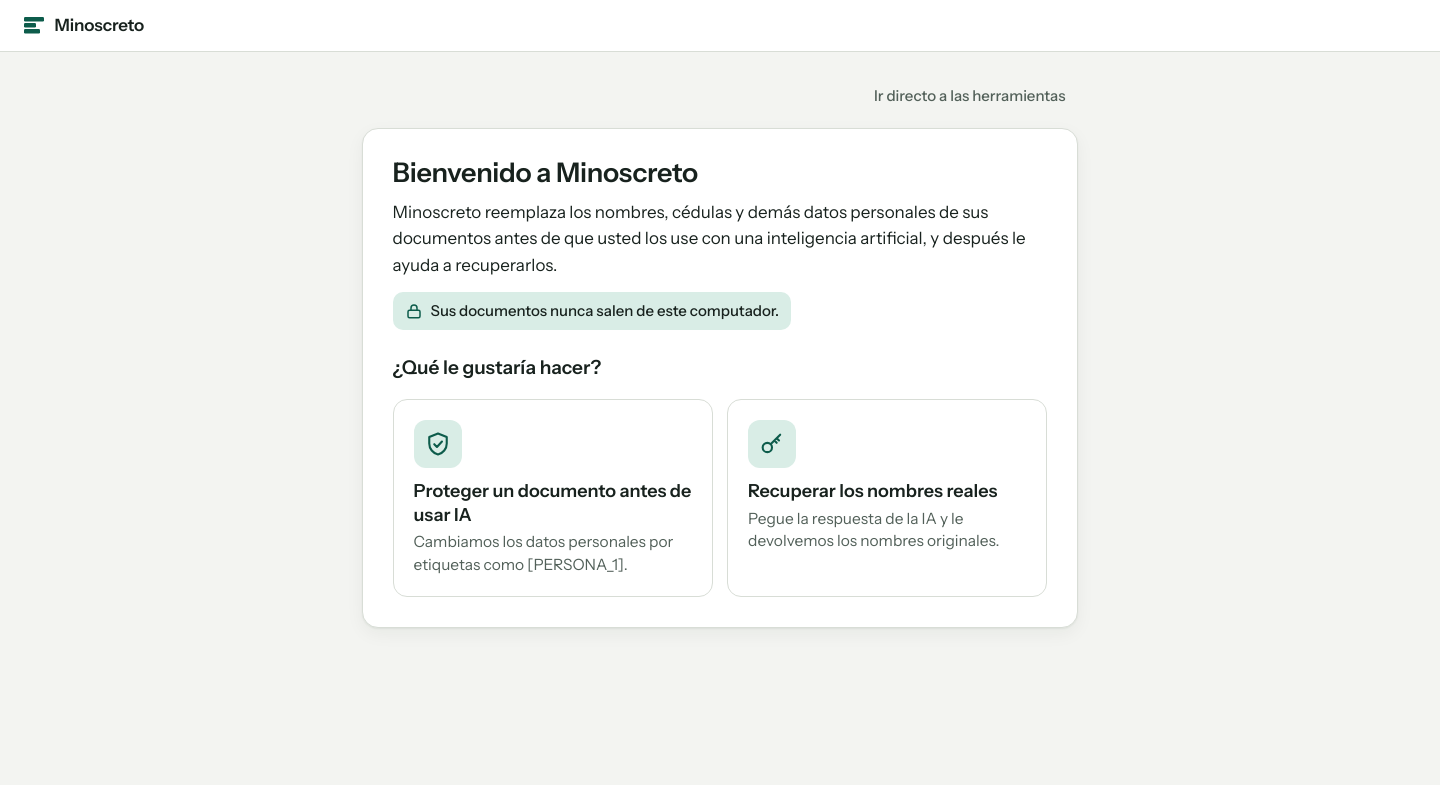
it: descarga y copia en la app › iPhone/iPad: el diccionario espera un toque y solo entonces queda marcado
Click the button "Proteger un documento".
click(553, 498)  # box [393,399,713,597]
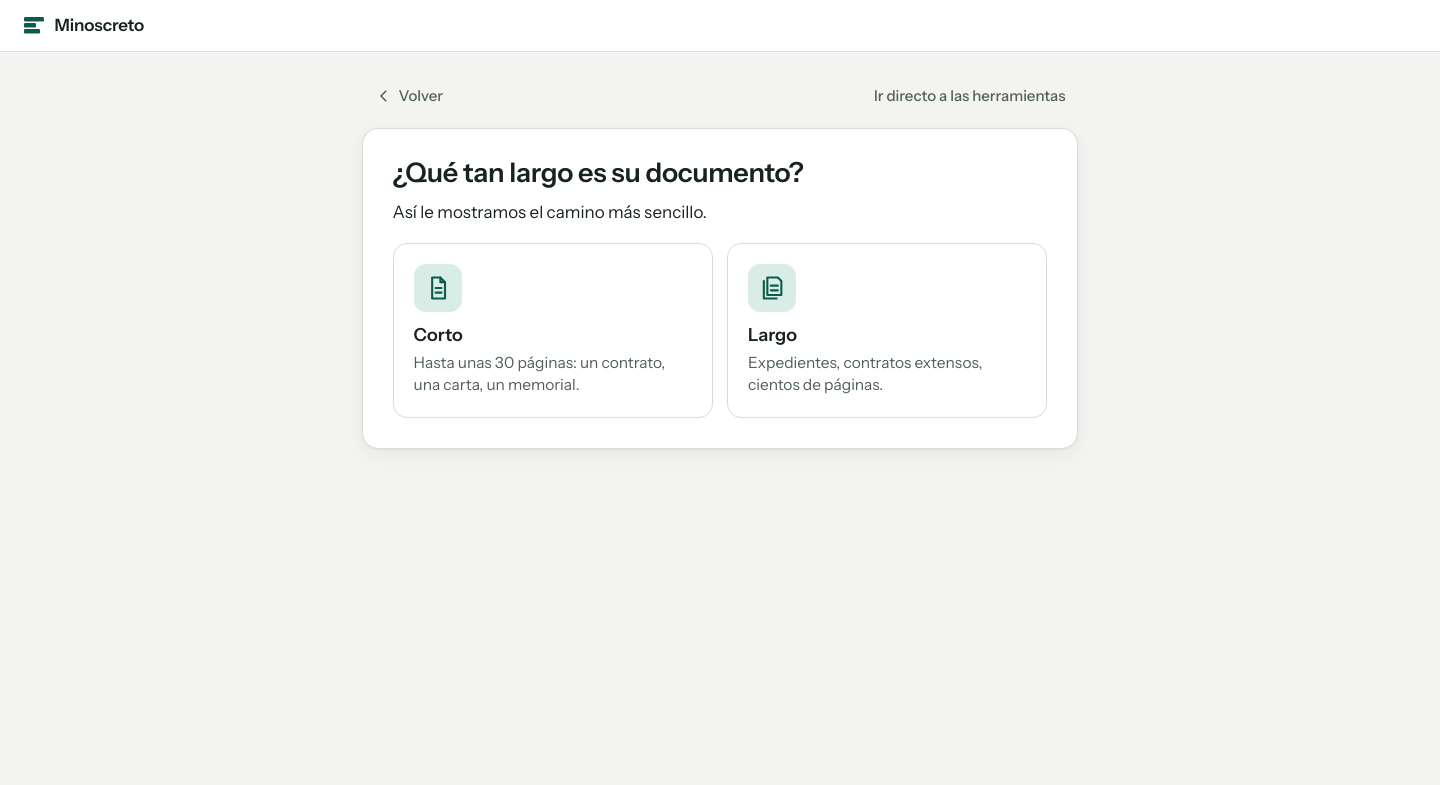
Click the button "Corto".
click(438, 288)  # box [393,243,713,418]
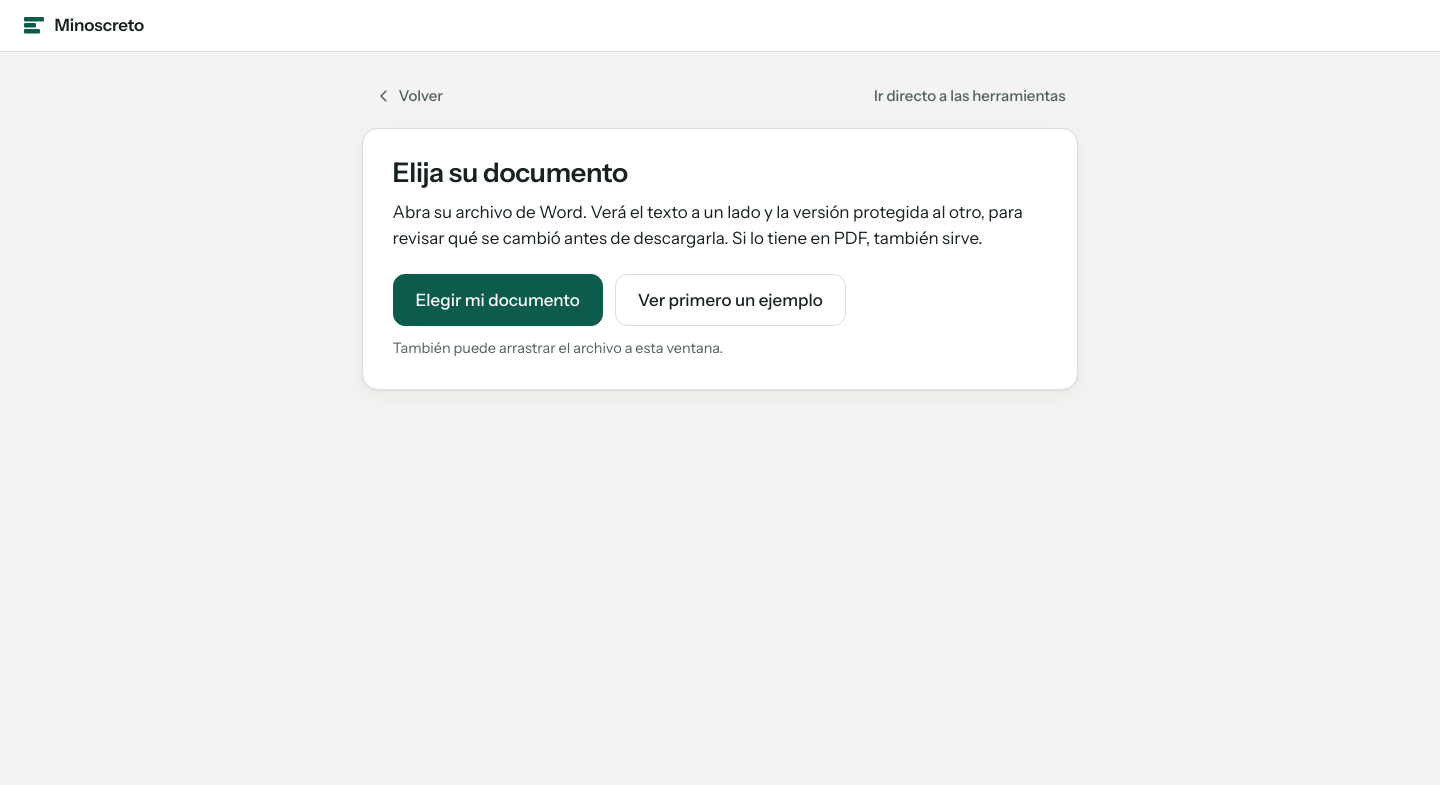
Click the button "Ver primero un ejemplo".
click(730, 300)  # box [615,274,846,326]
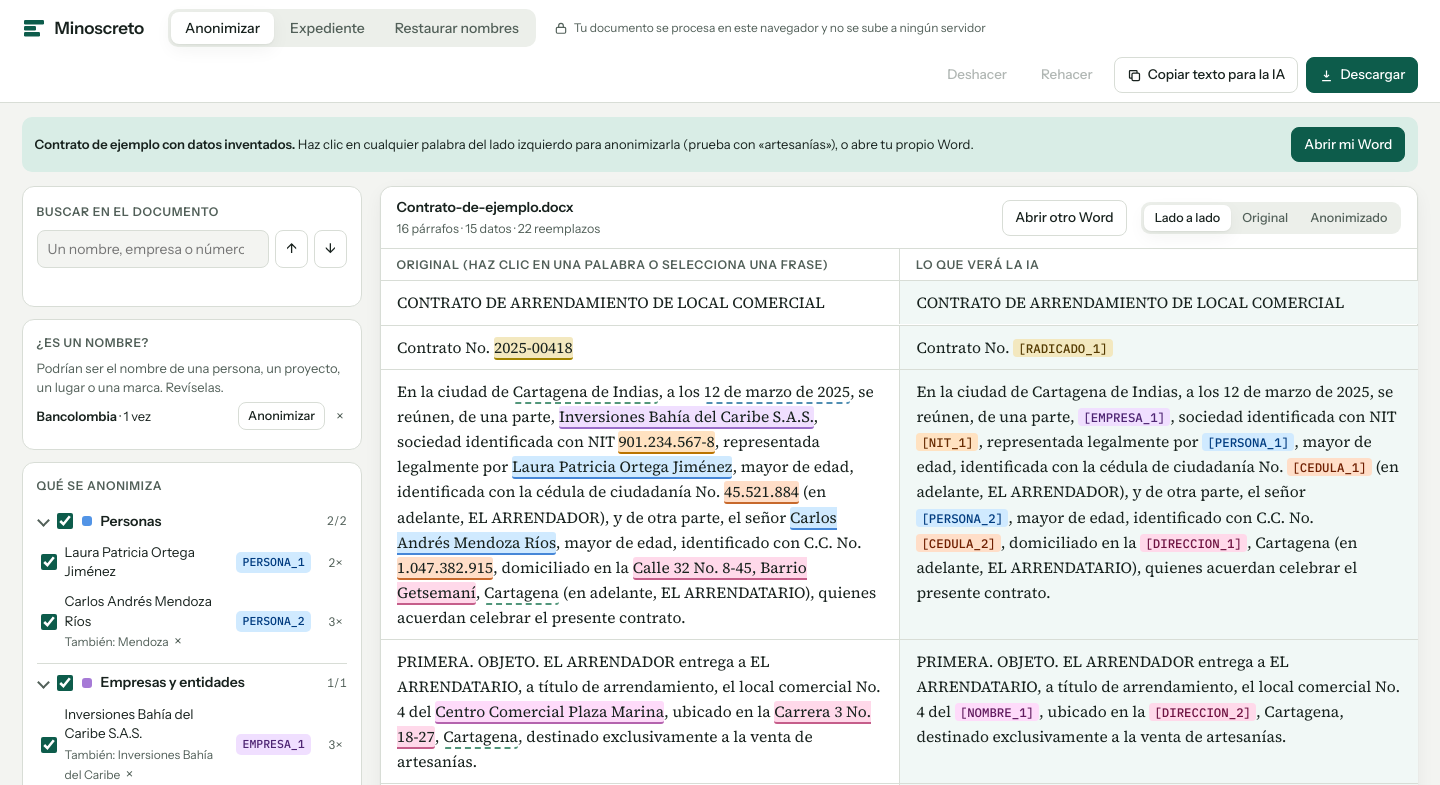
Click the button "Descargar".
click(1362, 75)  # box [1306,57,1418,93]
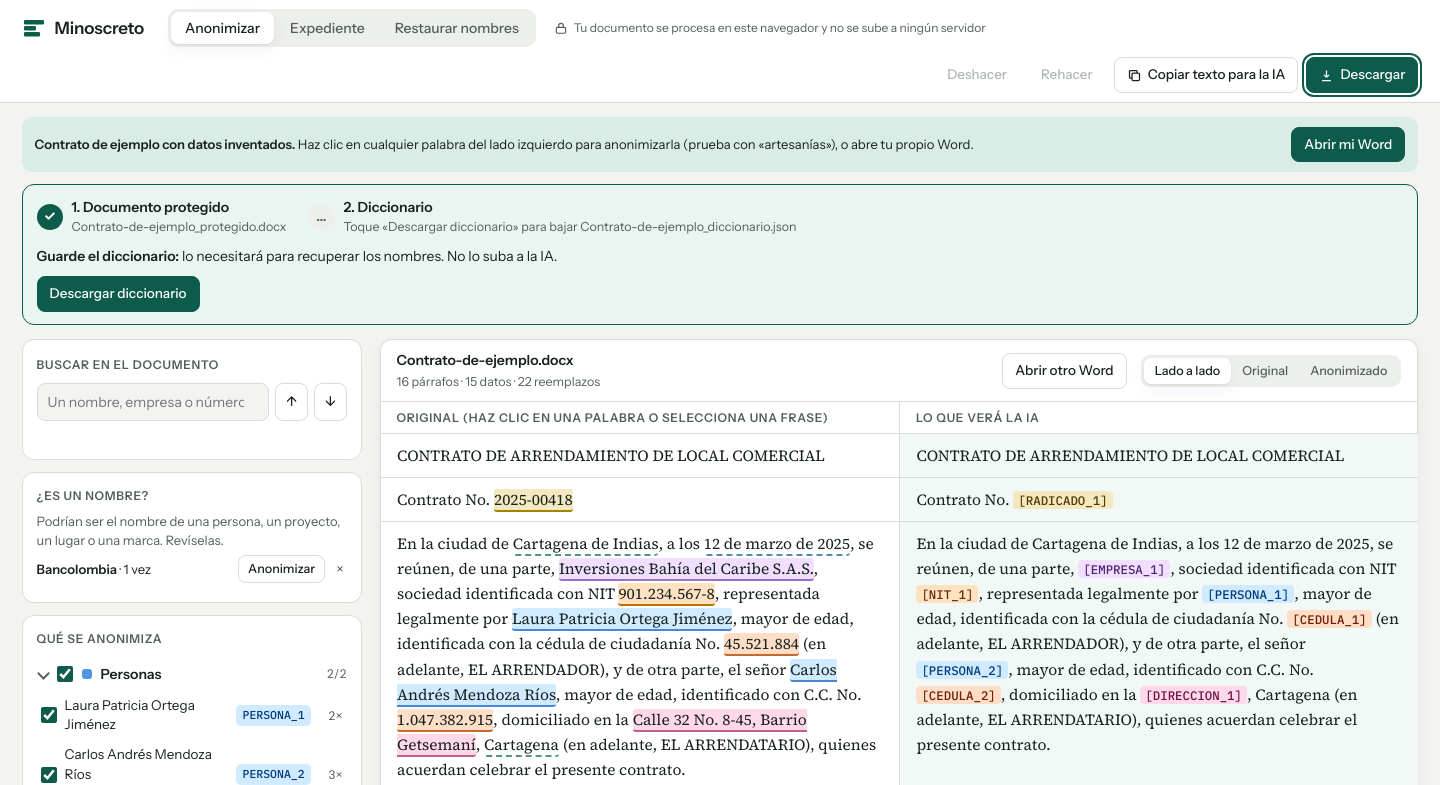
Expected: the button "Descargar diccionario de nuevo" is not shown
Click the button "Descargar diccionario".
click(118, 294)  # box [37,276,200,312]
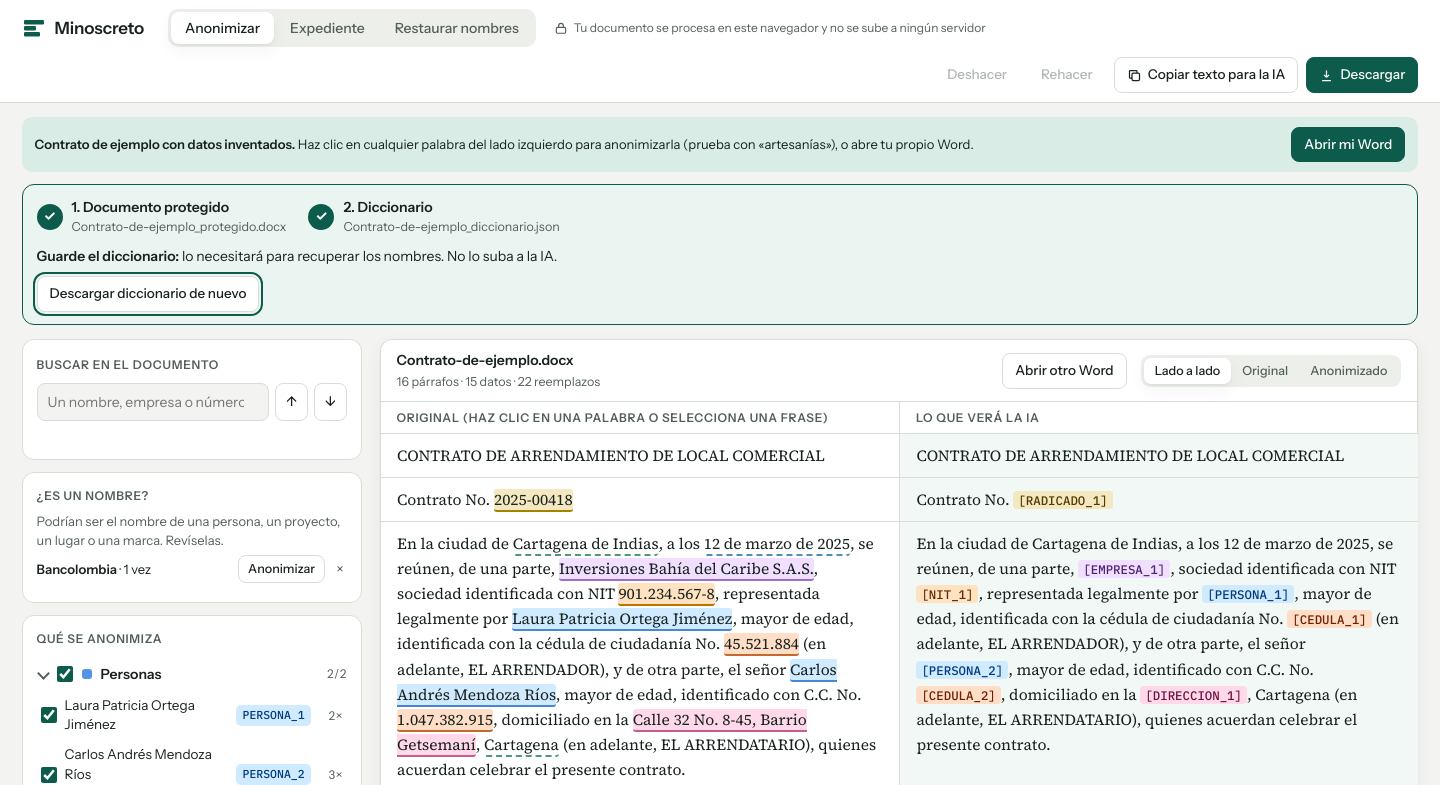
Now the button "Descargar diccionario de nuevo" is shown, box [37,276,259,312]
